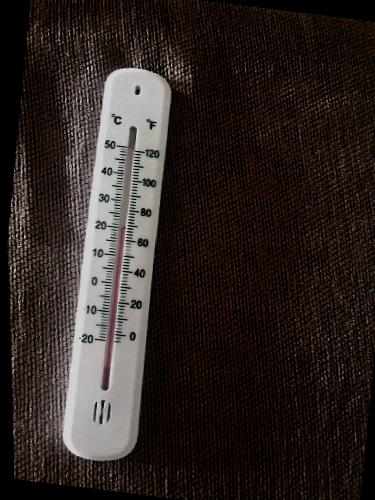thermo: (57, 66, 181, 455)
